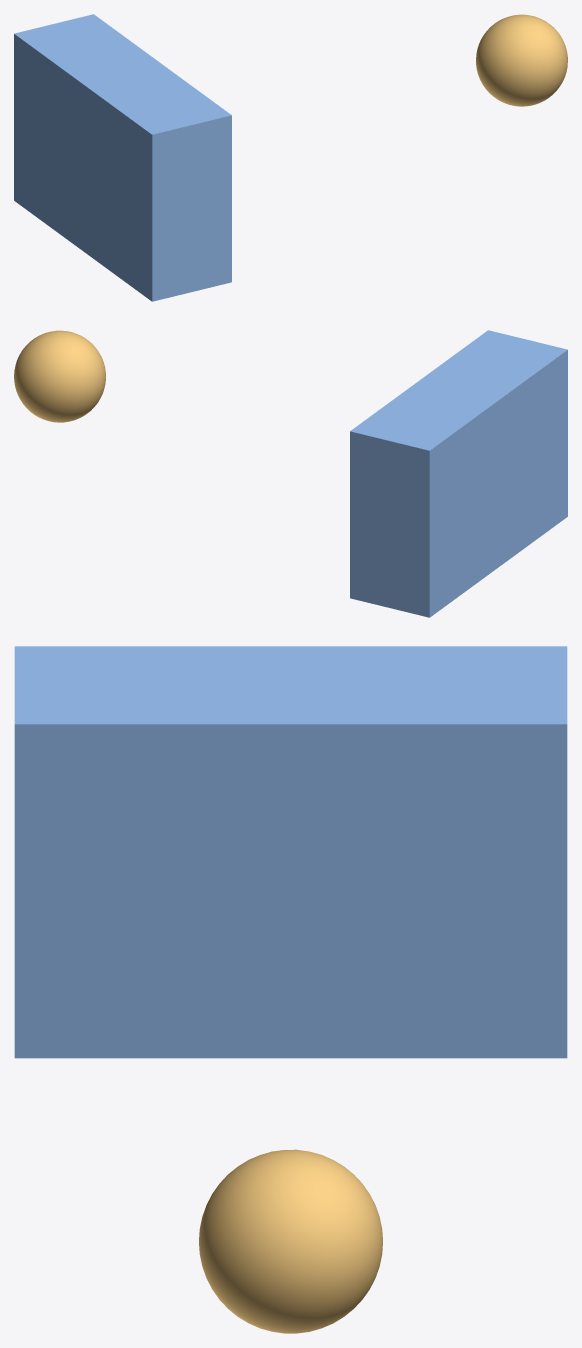
The model's file is xcaf-assembly.glb.
The picture shows the model from 3 angles, top to bottom: view 1: azimuth 30°, elevation 25°; view 2: azimuth 150°, elevation 25°; view 3: azimuth 270°, elevation 25°; orthographic projection. The views are drawn at different scales.
Visible parts, largest first — view 1: SOLID (×2); view 2: SOLID (×2); view 3: SOLID (×2).
Boxes of the visible parts, x1,y1,x2,y2 form: SOLID (×2): (14, 14, 567, 301); SOLID (×2): (14, 330, 567, 617); SOLID (×2): (14, 646, 567, 1333).
Bounding box in the file's own units: 60 × 20 × 30.
